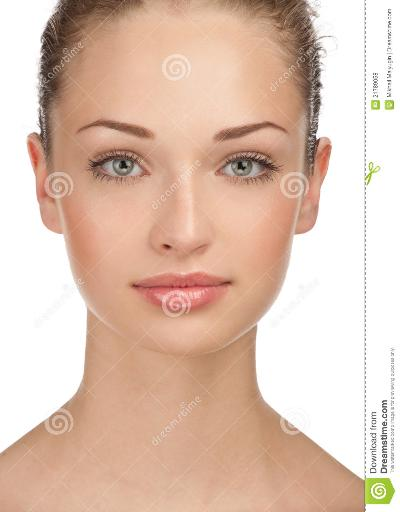left_eye: (214, 155, 277, 187)
left_lip_corner: (222, 275, 240, 292)
right_eye: (91, 154, 152, 185)
right_lip_corner: (127, 278, 145, 298)
